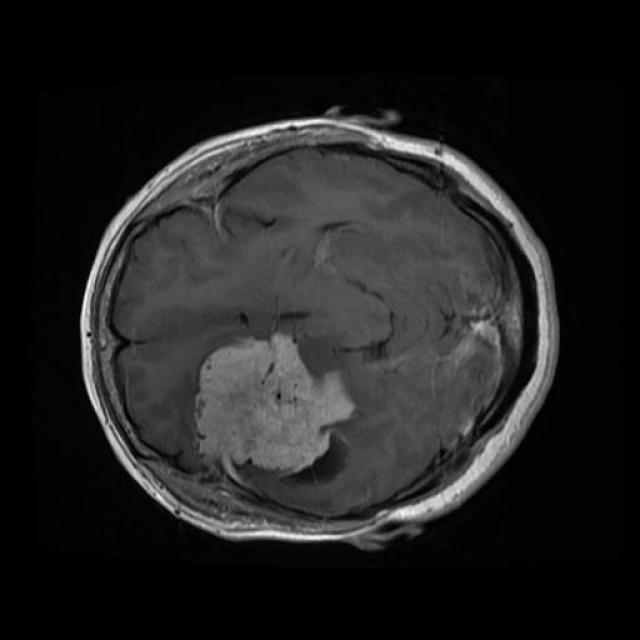Meningioma: (195, 332, 354, 480)
